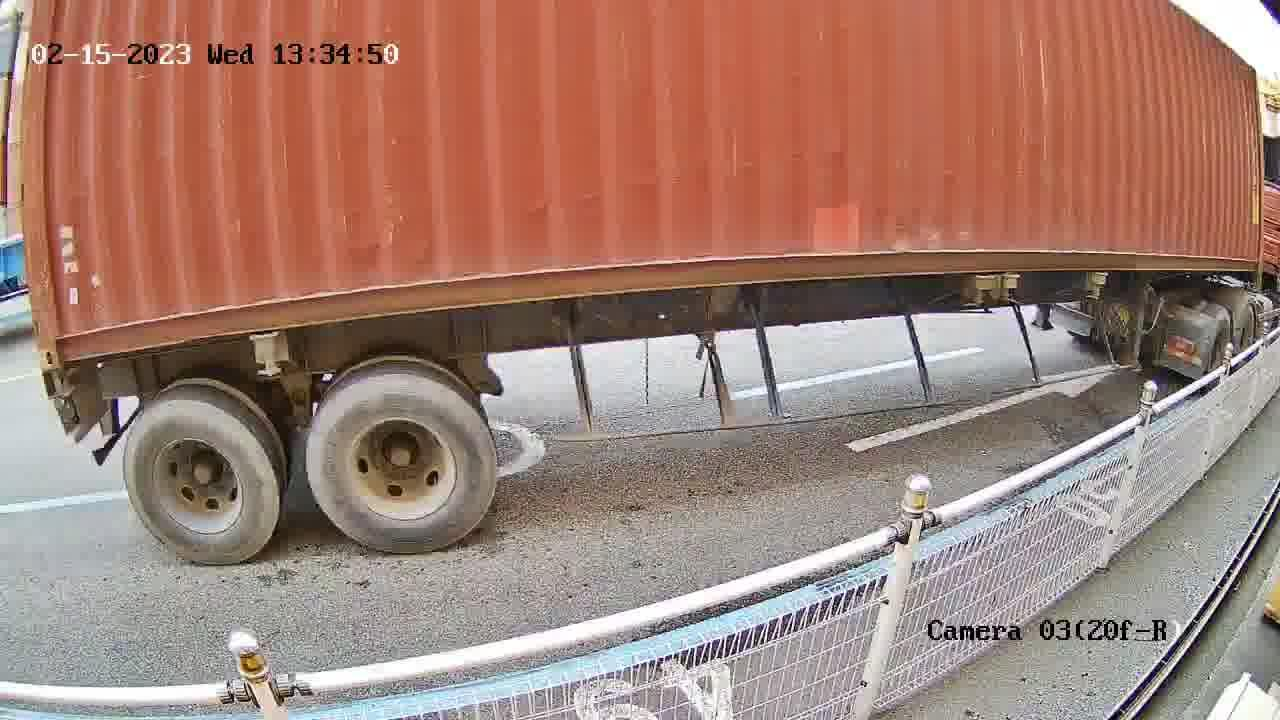Cone: (40, 368, 75, 398)
Hole_L: (32, 299, 108, 372)
Tire: (308, 379, 501, 554), (125, 398, 279, 567)
